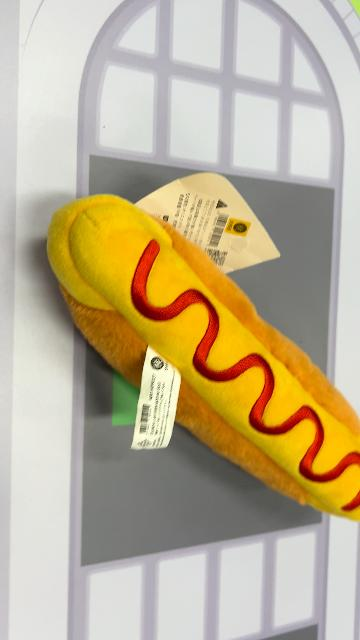hotdog: (46, 192, 358, 524)
